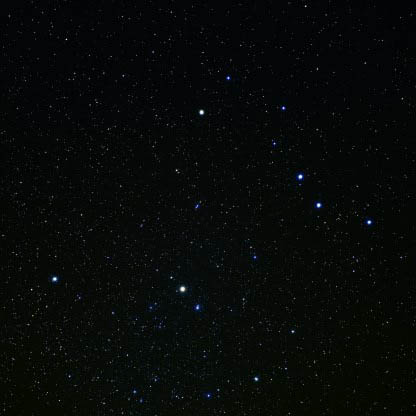Ursa Major: (186, 94, 214, 127), (209, 59, 235, 88), (356, 209, 380, 237), (290, 164, 314, 188), (265, 131, 288, 156), (271, 94, 294, 118), (306, 194, 329, 218)
